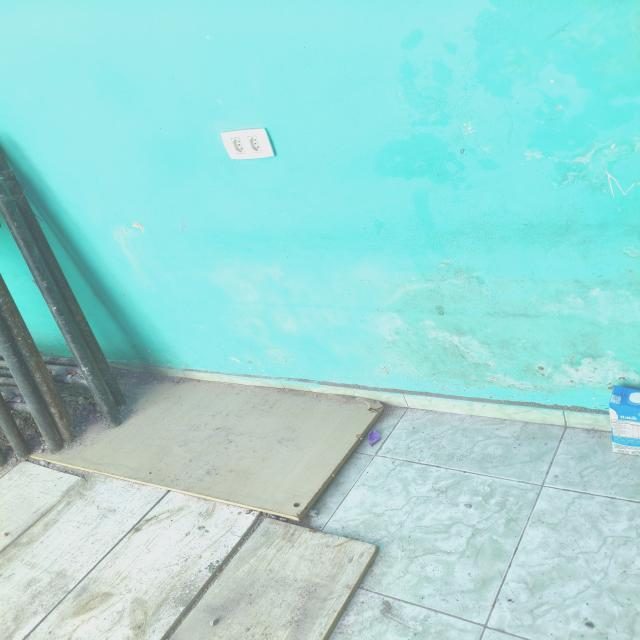Caixa de Leite: (601, 385, 640, 456)
